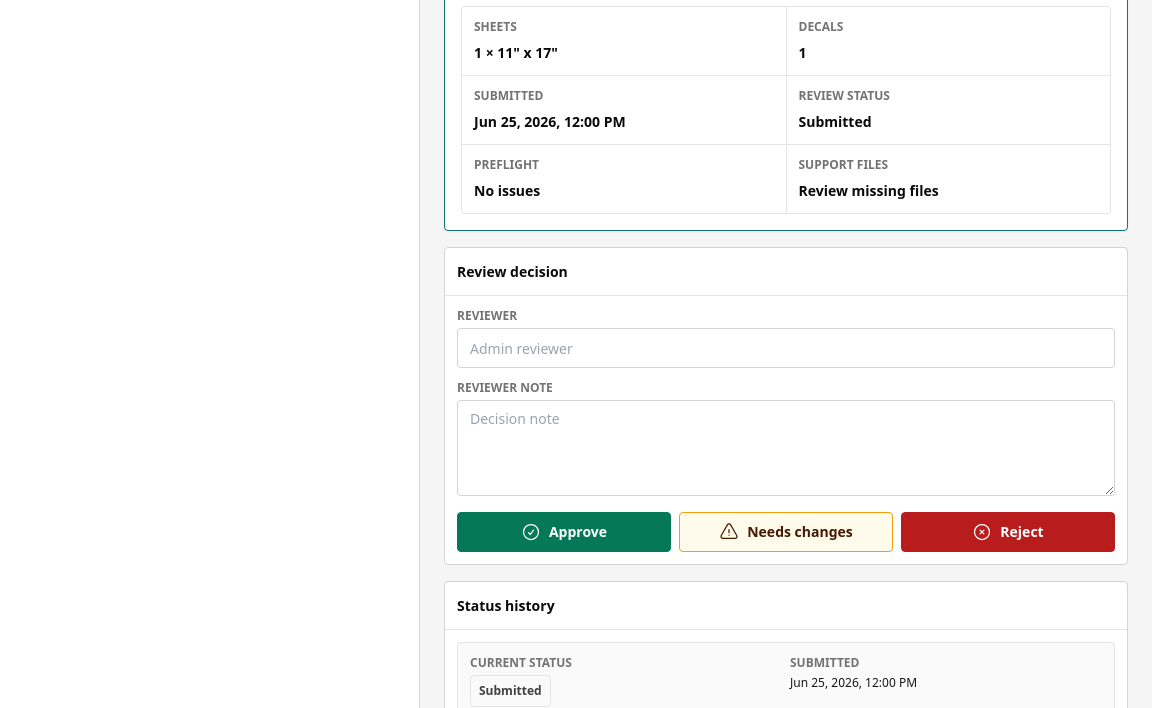
Test case: AdminReviewScreen › updates the selected project review status
This screenshot has width=1152, height=708.
(page scrolled)
In the field with placeholder "Admin reviewer": point(786, 348) [457, 328, 1115, 368], type "Production lead"
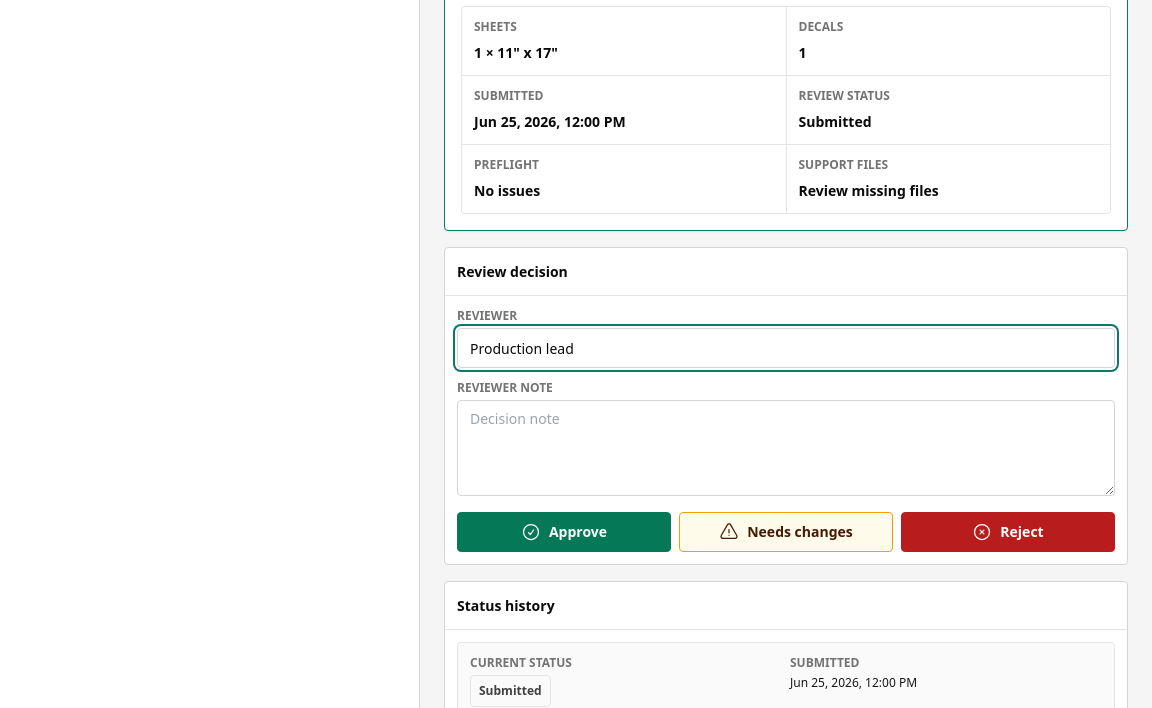
In the text box with placeholder "Decision note": point(786, 448) [457, 400, 1115, 496], type "Ready for production."
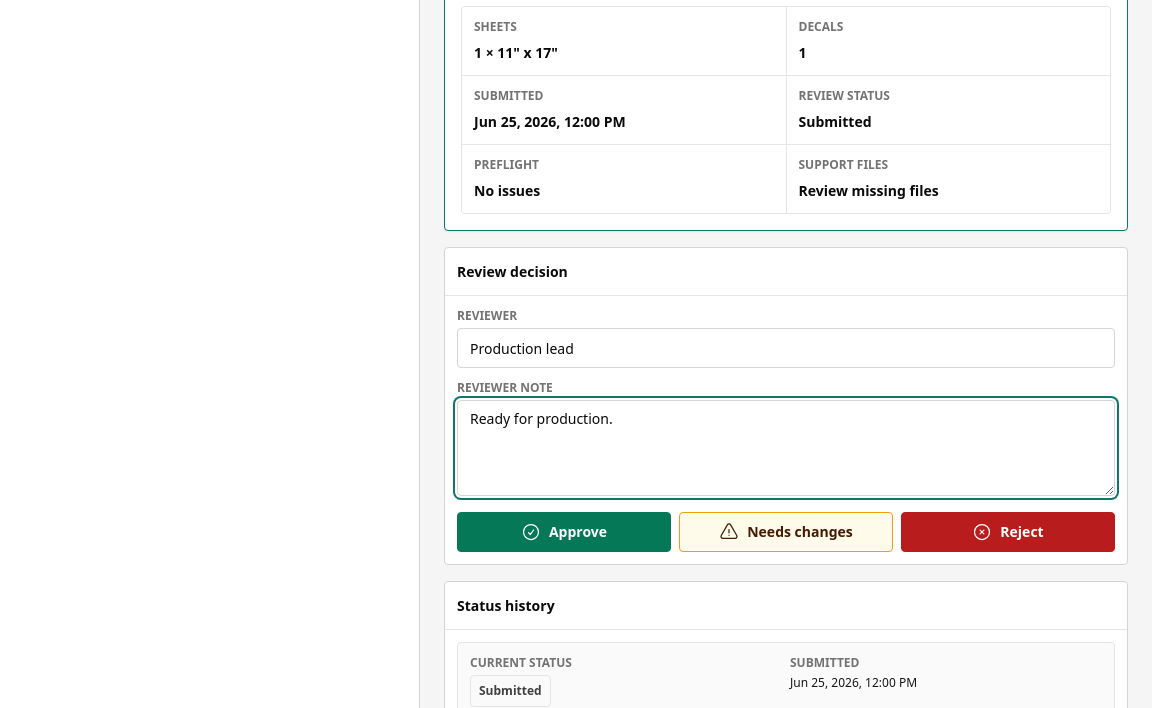
Click the button "Approve": point(564, 532) [457, 512, 671, 552]
(page scrolled)
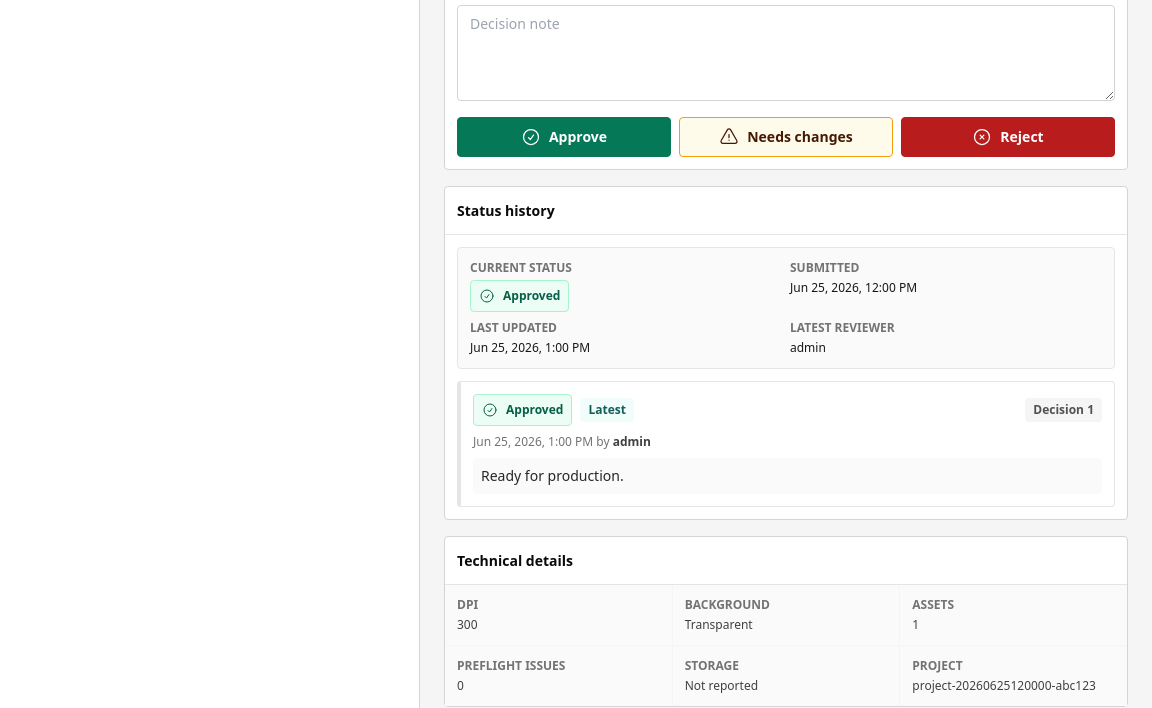
Expected: the text "Ready for production." is shown, [473, 458, 1102, 494]
Expected: the text "Decision 1" is shown, [1025, 398, 1102, 422]
Expected: the text "Latest" is shown, [580, 398, 634, 422]
